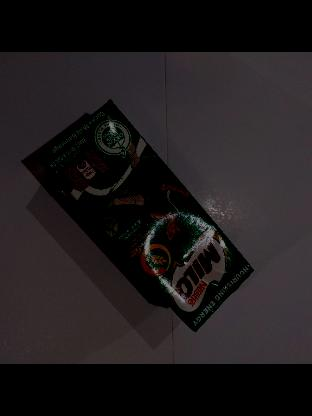Others: (36, 100, 252, 331)
